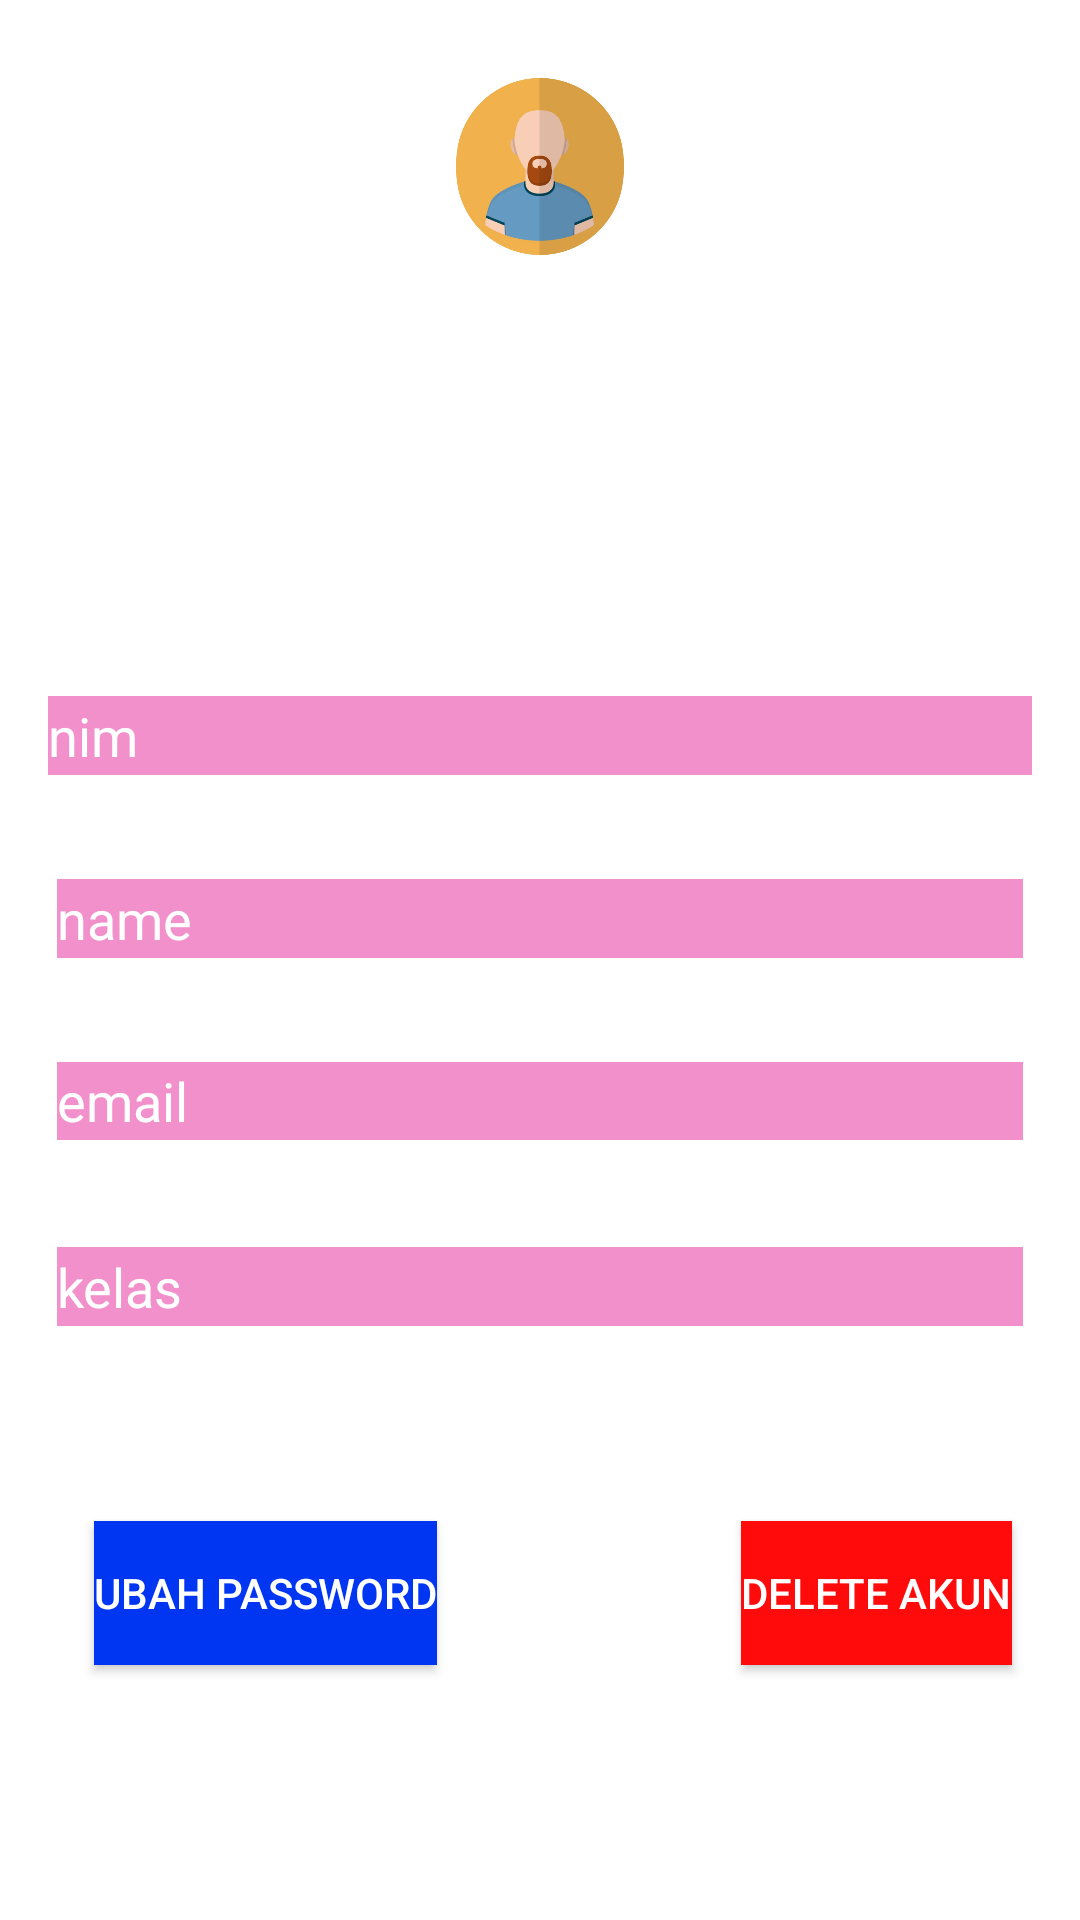

Icons on this 1080*1920 Android screen, each with its box as (x1, y1, x2, y2):
profile: (456, 78, 624, 255)
